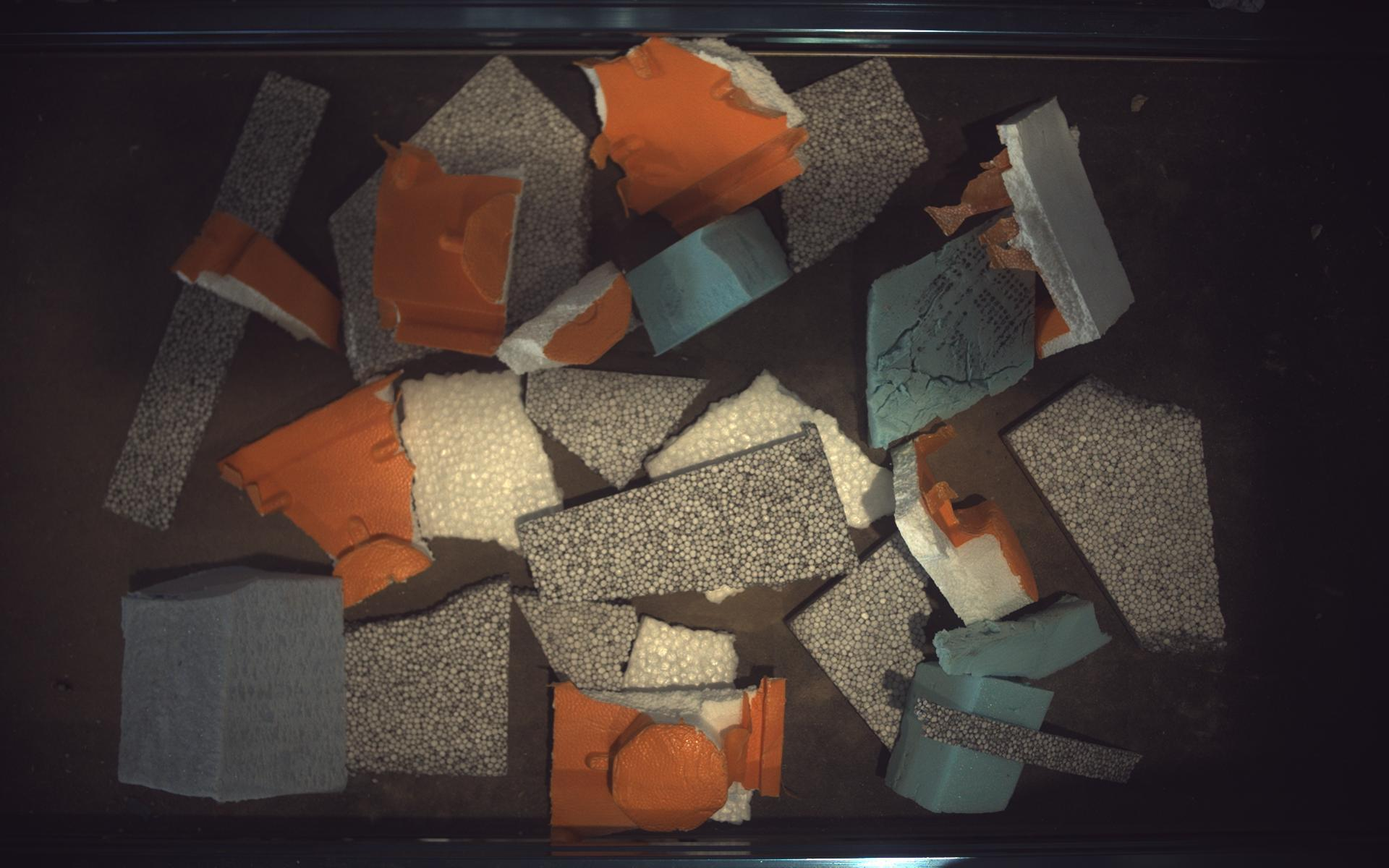foam: (517, 423, 858, 602), (1007, 377, 1228, 652), (117, 567, 345, 803), (929, 98, 1136, 357), (409, 54, 591, 333), (218, 373, 432, 607), (585, 35, 810, 234), (647, 371, 896, 529), (869, 222, 1037, 448), (103, 284, 250, 530), (551, 681, 786, 833), (345, 577, 512, 778), (373, 141, 523, 356), (782, 57, 930, 271), (791, 534, 934, 750), (893, 425, 1041, 625), (400, 370, 562, 550), (888, 664, 1055, 814), (627, 206, 792, 354), (172, 210, 339, 349), (329, 167, 435, 382), (525, 367, 709, 488), (212, 71, 329, 237), (917, 699, 1144, 784), (935, 596, 1113, 681), (497, 262, 632, 374), (516, 592, 640, 691), (624, 617, 739, 689), (712, 783, 754, 825), (705, 587, 745, 605)
